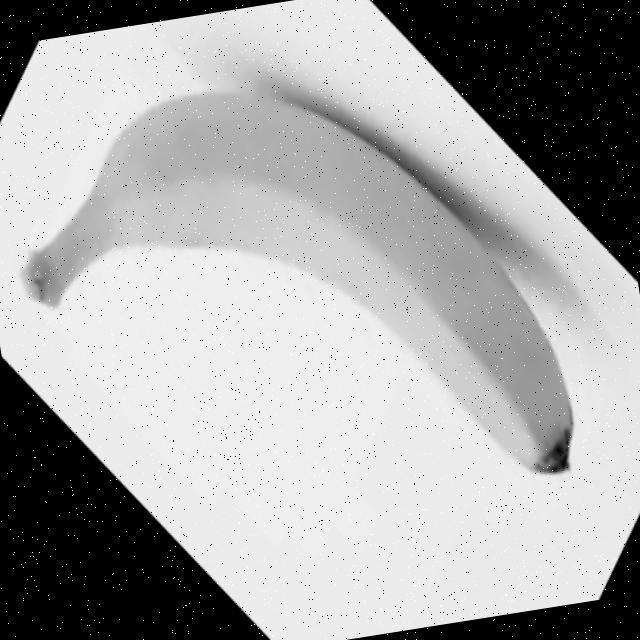Ripe: (0, 44, 588, 566)
